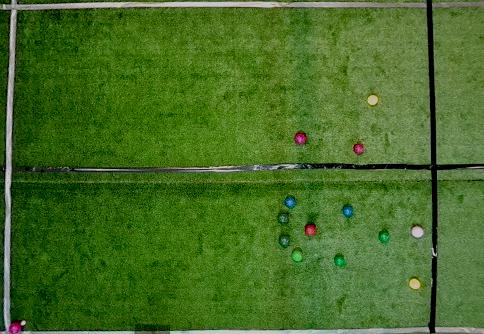blue: (285, 197, 296, 208), (342, 206, 353, 216)
green: (292, 250, 303, 262), (279, 235, 290, 246), (379, 231, 390, 242), (334, 256, 345, 266), (278, 213, 288, 223)
red: (411, 225, 424, 238), (304, 224, 317, 236), (294, 133, 307, 145), (9, 322, 22, 333), (353, 144, 364, 155)
vline: (426, 0, 483, 333), (0, 0, 20, 333)
white: (20, 320, 26, 326)
yellow: (409, 278, 421, 289), (367, 95, 379, 105)
